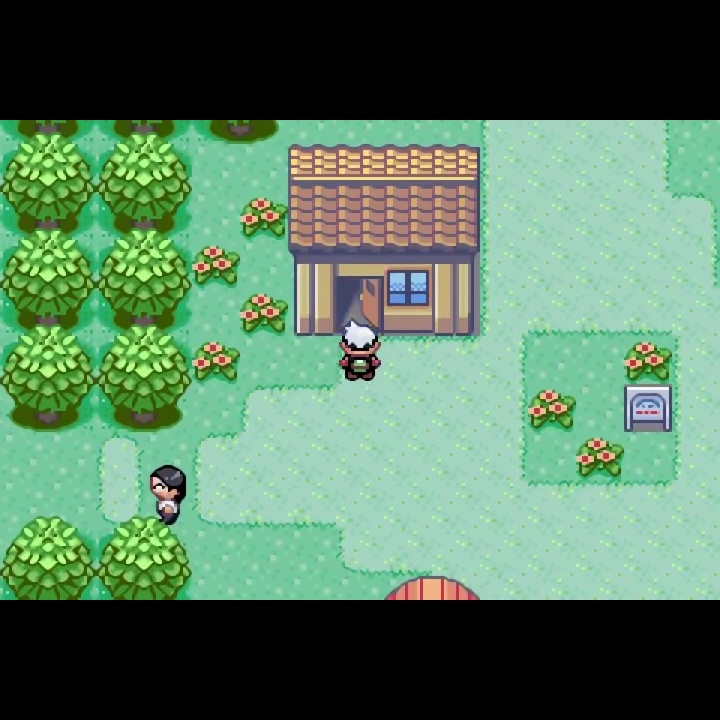house: (285, 140, 483, 340)
npc: (336, 318, 383, 382), (147, 463, 189, 525)
wall: (1, 323, 97, 434), (95, 325, 193, 433), (97, 228, 192, 333), (1, 228, 97, 331), (1, 133, 96, 230), (98, 133, 190, 230), (1, 513, 96, 600), (96, 513, 192, 599), (189, 120, 280, 145), (1, 119, 96, 141), (96, 120, 189, 140)
